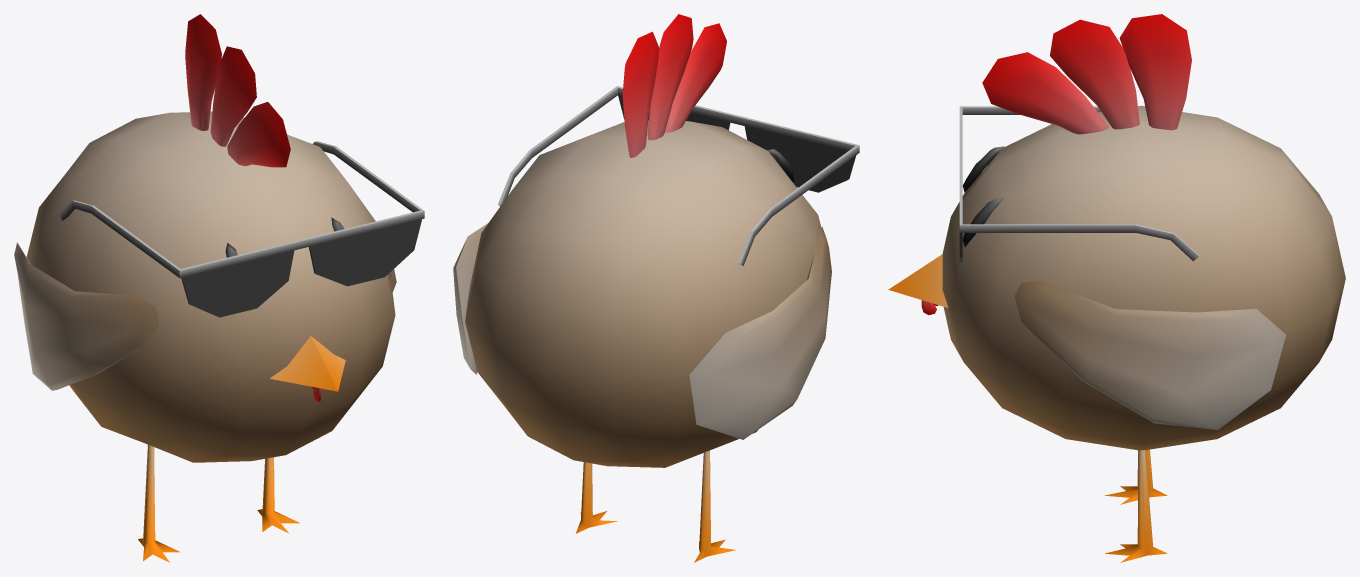
The model's file is Gallina_Cafe.FBX.
3 renders of one model, left to right at view 1: azimuth 30°, elevation 25°; view 2: azimuth 150°, elevation 25°; view 3: azimuth 270°, elevation 25°, orthographic.
Visible parts, largest first — view 1: Gallina_Cafe; view 2: Gallina_Cafe; view 3: Gallina_Cafe.
Boxes of the visible parts, <box> form: Gallina_Cafe: <box>14,14,424,562</box>; Gallina_Cafe: <box>453,14,859,562</box>; Gallina_Cafe: <box>888,14,1345,562</box>.
Bounding box in the file's own units: 22.2 × 34.43 × 27.97.
1 material, 1 textured.
